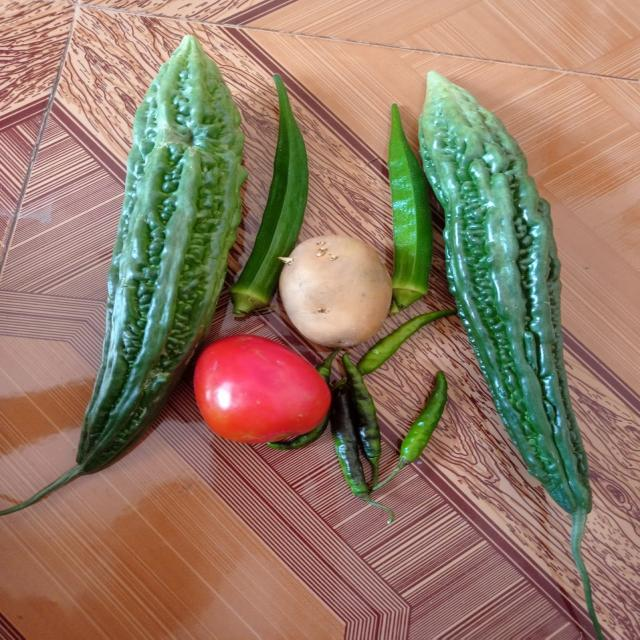Organik: (414, 66, 635, 477), (54, 29, 243, 487), (232, 75, 308, 311), (196, 339, 331, 449), (277, 226, 395, 350), (375, 108, 442, 308), (384, 369, 456, 494), (336, 358, 394, 512)
